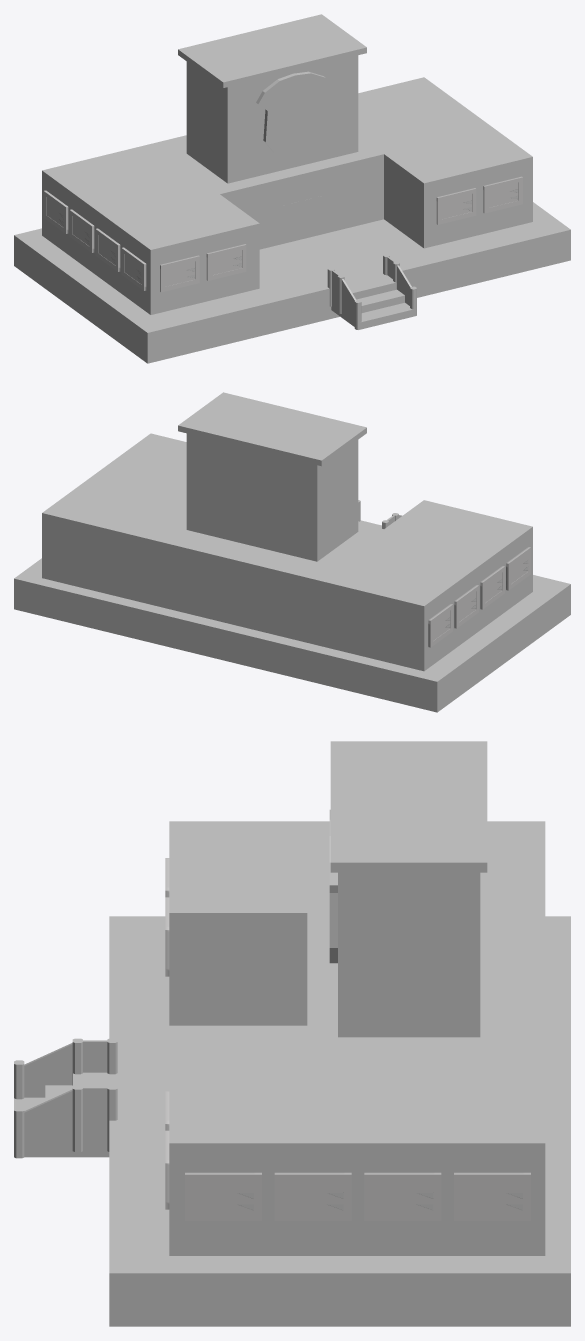
File: police.fbx
3 views of the same model, one above another, from view 1: azimuth 30°, elevation 25°; view 2: azimuth 150°, elevation 25°; view 3: azimuth 270°, elevation 25° (orthographic). The views are drawn at different scales.
Parts seen in each view (by area): view 1: Cube.022, Cube.021, Cube.028, Cube, Cube.025, Cube.034, Cube.023, Cube.024, Cube.026, Cube.027, Cube.036, Cube.033 (+2 smaller); view 2: Cube.022, Cube.021, Cube.035, Cube.037, Cube.033, Cube.036; view 3: Cube.022, Cube.021, Cube, Cube.030, Cube.031, Cube.032, Cube.029, Cube.028.
Boxes of the visible parts, x1,y1,x2,y2 form: Cube.022: (42,14,532,314); Cube.021: (14,202,570,363); Cube.028: (256,71,332,158); Cube: (327,254,416,329); Cube.025: (206,244,246,280); Cube.034: (436,188,476,224); Cube.023: (483,176,522,213); Cube.024: (160,255,199,292); Cube.026: (302,196,322,239); Cube.027: (281,201,301,244); Cube.036: (95,228,120,271); Cube.033: (43,190,68,233); Cube.022: (42,392,532,671); Cube.021: (14,558,570,712); Cube.035: (454,585,478,628); Cube.037: (506,547,530,590); Cube.033: (428,604,452,647); Cube.036: (480,566,504,609); Cube.022: (169,741,545,1255); Cube.021: (109,916,570,1326); Cube: (14,1038,117,1158); Cube.030: (274,1172,351,1220); Cube.031: (364,1172,441,1220); Cube.032: (454,1172,530,1220); Cube.029: (185,1172,261,1220); Cube.028: (329,809,337,963).
Size of the model in its own units: 2449 by 1106 by 1615.
